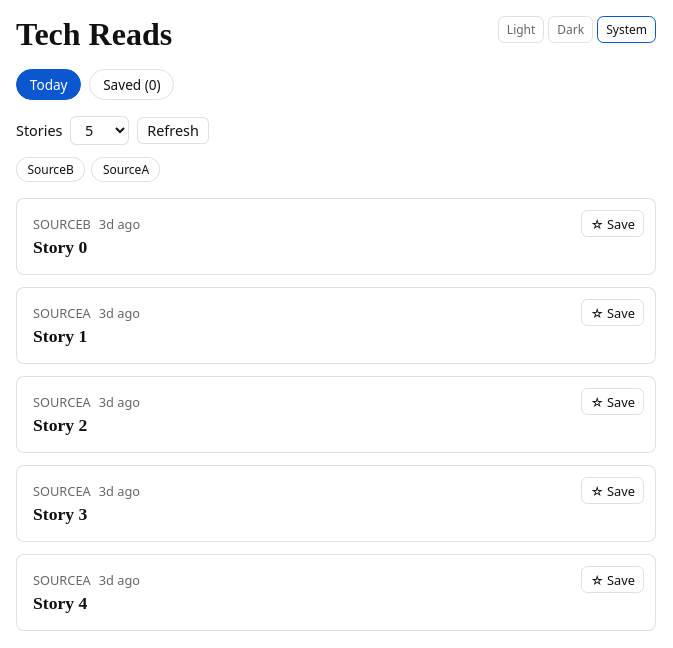
Test case: App › saves a story from the list and shows it under the Saved tab
What coordinates should you click on to do the following:
click the 1st button "☆ Save"
I would click on:
 (613, 224)
Its box is [581, 210, 644, 237].
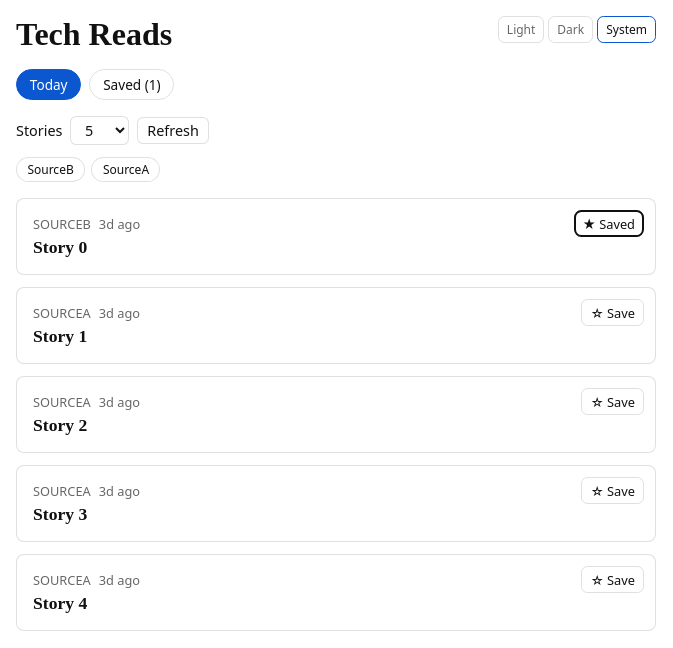
What coordinates should you click on to do the following:
click the button "Saved (1)"
I would click on:
 (132, 84)
Its box is [89, 69, 174, 100].
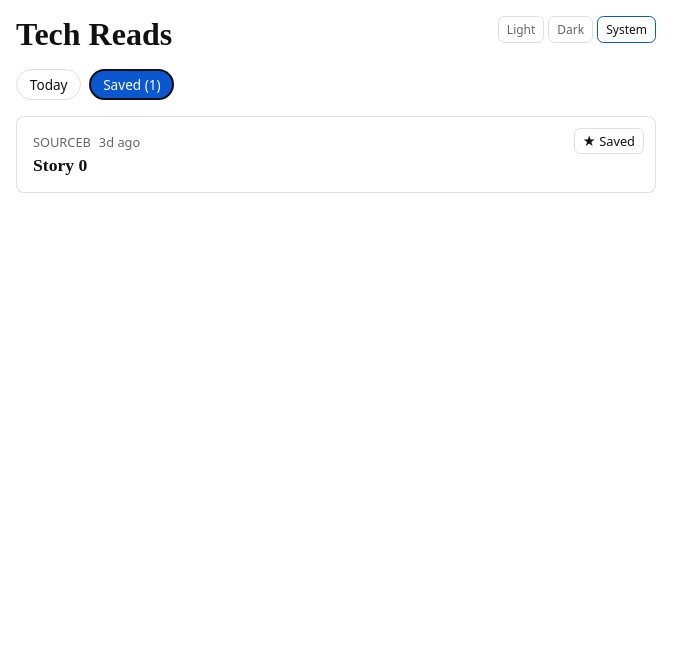
Expected: the heading "Story 0" is shown, [33, 155, 87, 175]
Result: the button "Story 1" is gone
